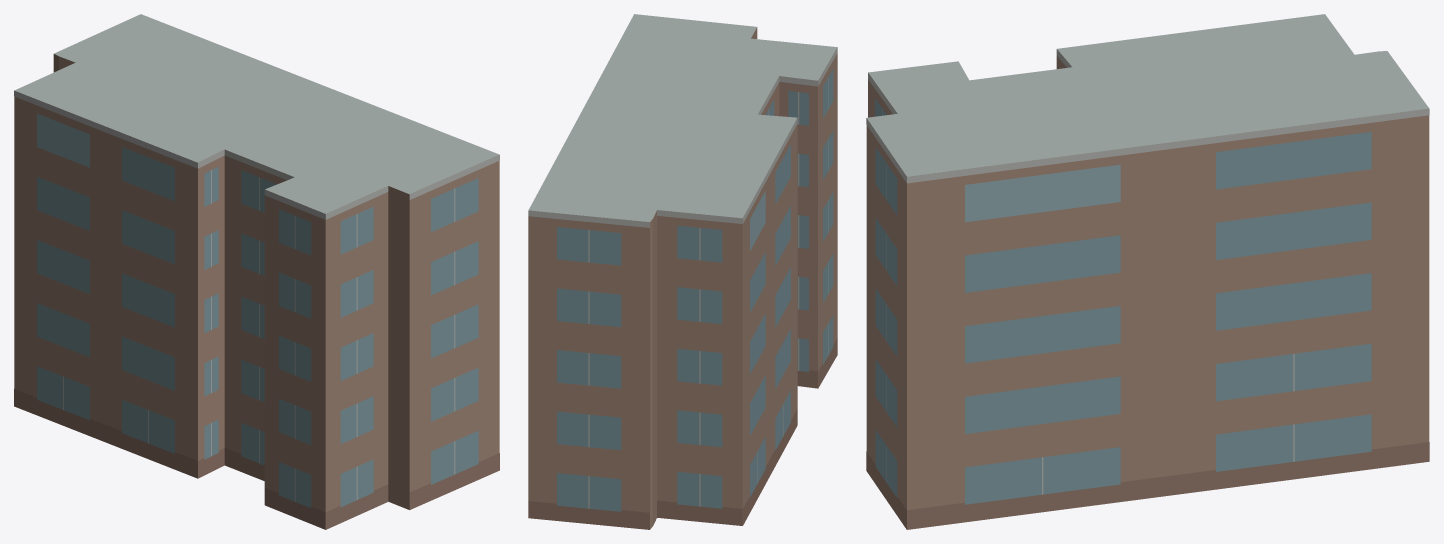
File: survey-upis-32605696.glb
3 views of the same model, side by side, from view 1: azimuth 30°, elevation 25°; view 2: azimuth 150°, elevation 25°; view 3: azimuth 270°, elevation 25° (orthographic). The views are drawn at different scales.
Visible parts, largest first — view 1: survey-upis-32605696.tmp; view 2: survey-upis-32605696.tmp; view 3: survey-upis-32605696.tmp.
Boxes of the visible parts, <box> form: survey-upis-32605696.tmp: <box>14,14,499,529</box>; survey-upis-32605696.tmp: <box>528,14,837,529</box>; survey-upis-32605696.tmp: <box>866,14,1429,529</box>.
Size of the model in its own units: 12.87 by 13 by 18.8.
